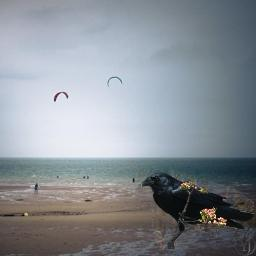Crow: (136, 170, 254, 249)
